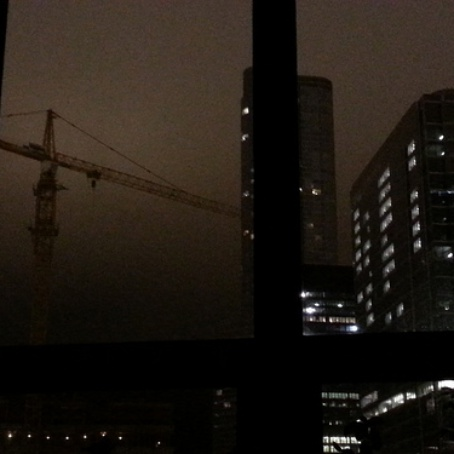building: (354, 89, 454, 454), (239, 1, 337, 336)
crane: (1, 108, 231, 363)
